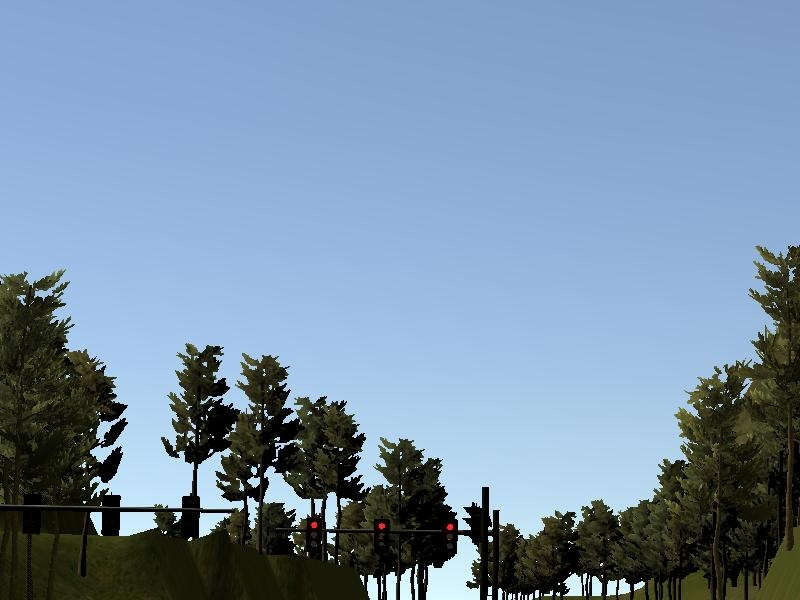traffic_light_red: (301, 519, 480, 557)
